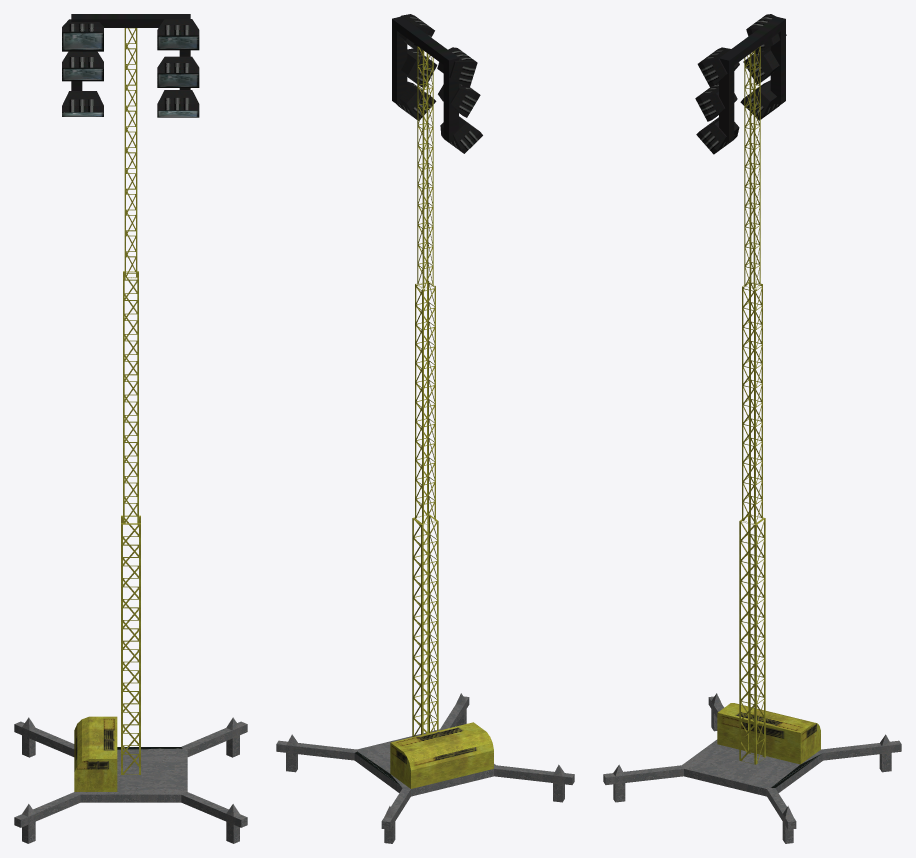
File: vgsecnstrct12.obj
3 renders of one model, left to right at view 1: azimuth 30°, elevation 25°; view 2: azimuth 150°, elevation 25°; view 3: azimuth 270°, elevation 25°, orthographic. The views are drawn at different scales.
Parts seen in each view (by area): view 1: vgsEcnstrct12; view 2: vgsEcnstrct12; view 3: vgsEcnstrct12.
Part boxes in pixels (box(x1,y1,x2,y2)): vgsEcnstrct12: box(14, 14, 247, 843); vgsEcnstrct12: box(276, 14, 574, 843); vgsEcnstrct12: box(603, 14, 901, 843).
Size of the model in its own units: 4.42 by 12.2 by 4.42.
5 materials, 5 textured.
